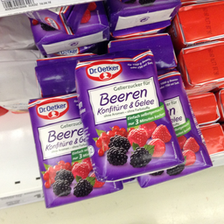sugar: (74, 49, 182, 181), (28, 93, 124, 208)
